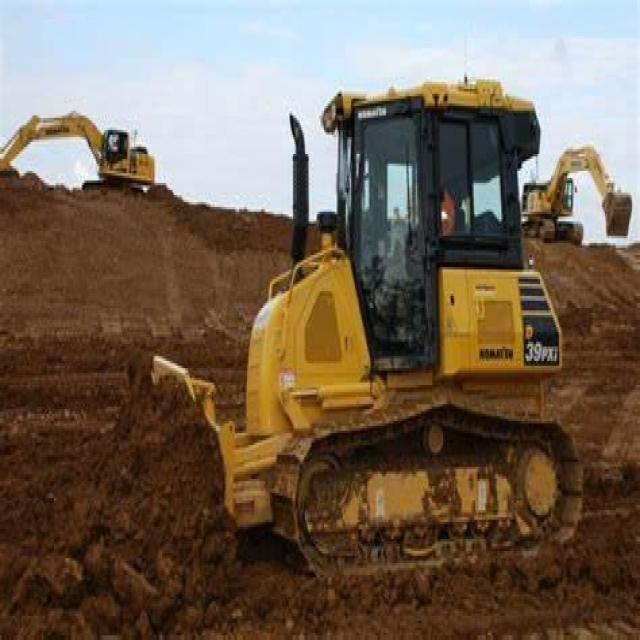buldozerpayloadergrader: (157, 65, 594, 573)
excavator: (0, 74, 167, 240), (518, 118, 638, 257)
